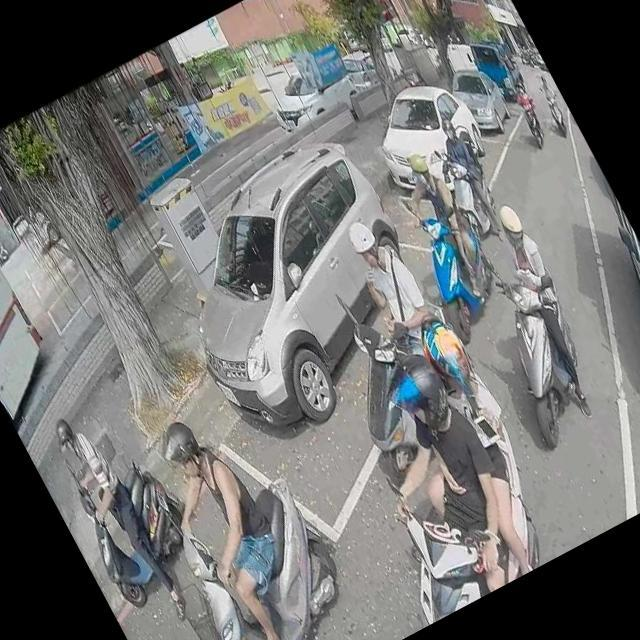person: (318, 334, 547, 619), (358, 315, 573, 596), (127, 397, 329, 640), (43, 402, 194, 628), (468, 194, 617, 422), (383, 137, 499, 306), (335, 208, 449, 366), (426, 110, 516, 240), (511, 82, 545, 130), (532, 72, 564, 120), (0, 230, 6, 259)
